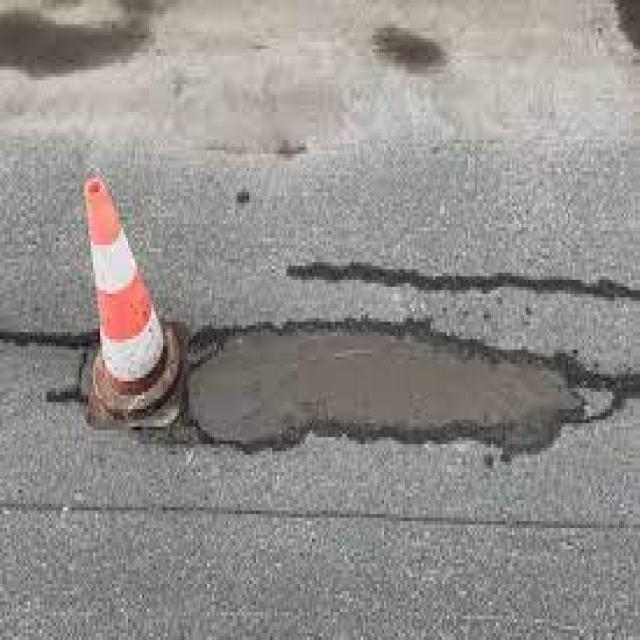Pothole: (35, 322, 619, 462)
